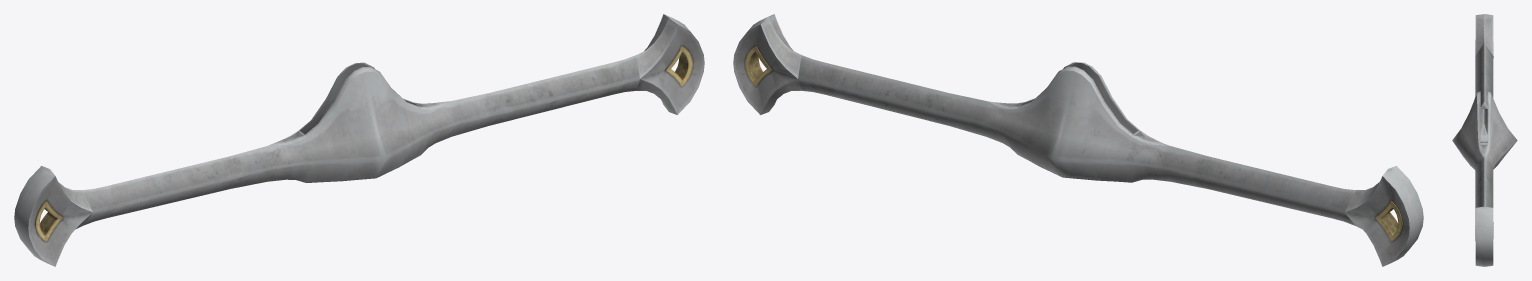
Rendered from anduril_guard.fbx.
The picture shows the model from 3 angles, left to right: view 1: azimuth 30°, elevation 25°; view 2: azimuth 150°, elevation 25°; view 3: azimuth 270°, elevation 25°; orthographic projection. The views are drawn at different scales.
Visible parts, largest first — view 1: anduril_guard; view 2: anduril_guard; view 3: anduril_guard.
Part boxes in pixels (<box>): anduril_guard: <box>14,14,704,266</box>; anduril_guard: <box>733,14,1423,266</box>; anduril_guard: <box>1452,14,1517,266</box>.
Bounding box in the file's own units: 0.2221 × 0.0293 × 0.0384.
1 material, 1 textured.
